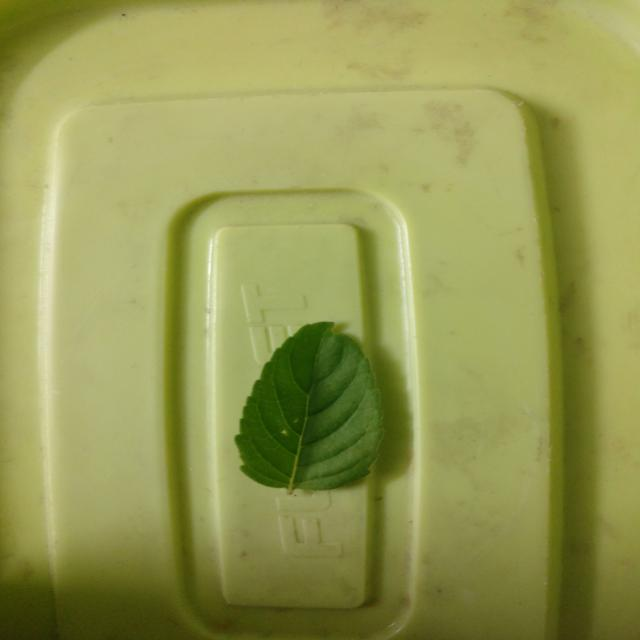tulsi: (235, 321, 383, 495)
